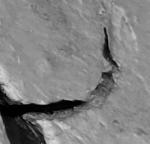crack: (1, 0, 150, 143)
